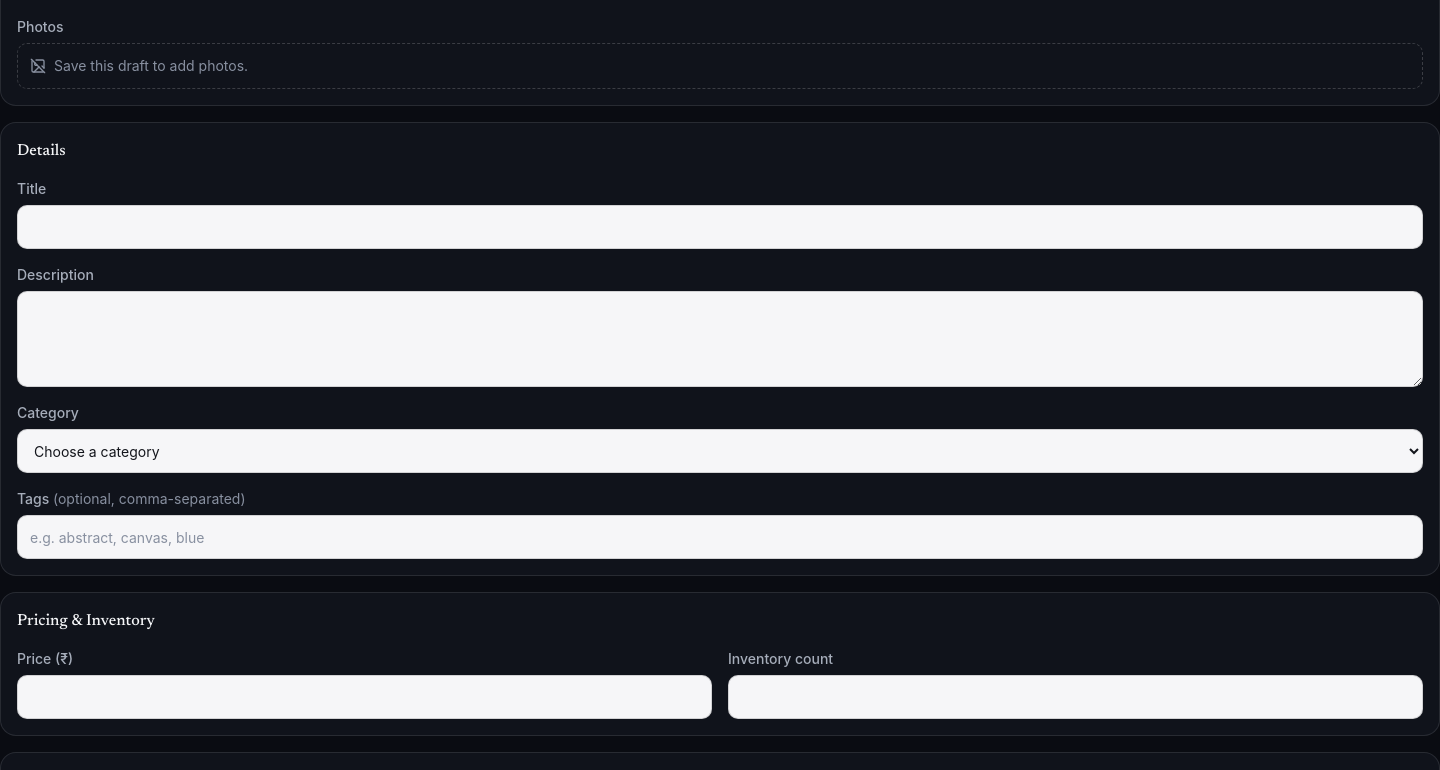
Test: ArtworkForm — create mode › rejects a non-numeric price with a specific message
This screenshot has width=1440, height=770.
In the field labelled "Title": (720, 227) x1=17 y1=205 x2=1423 y2=249, type "Sunset Over the Bay"
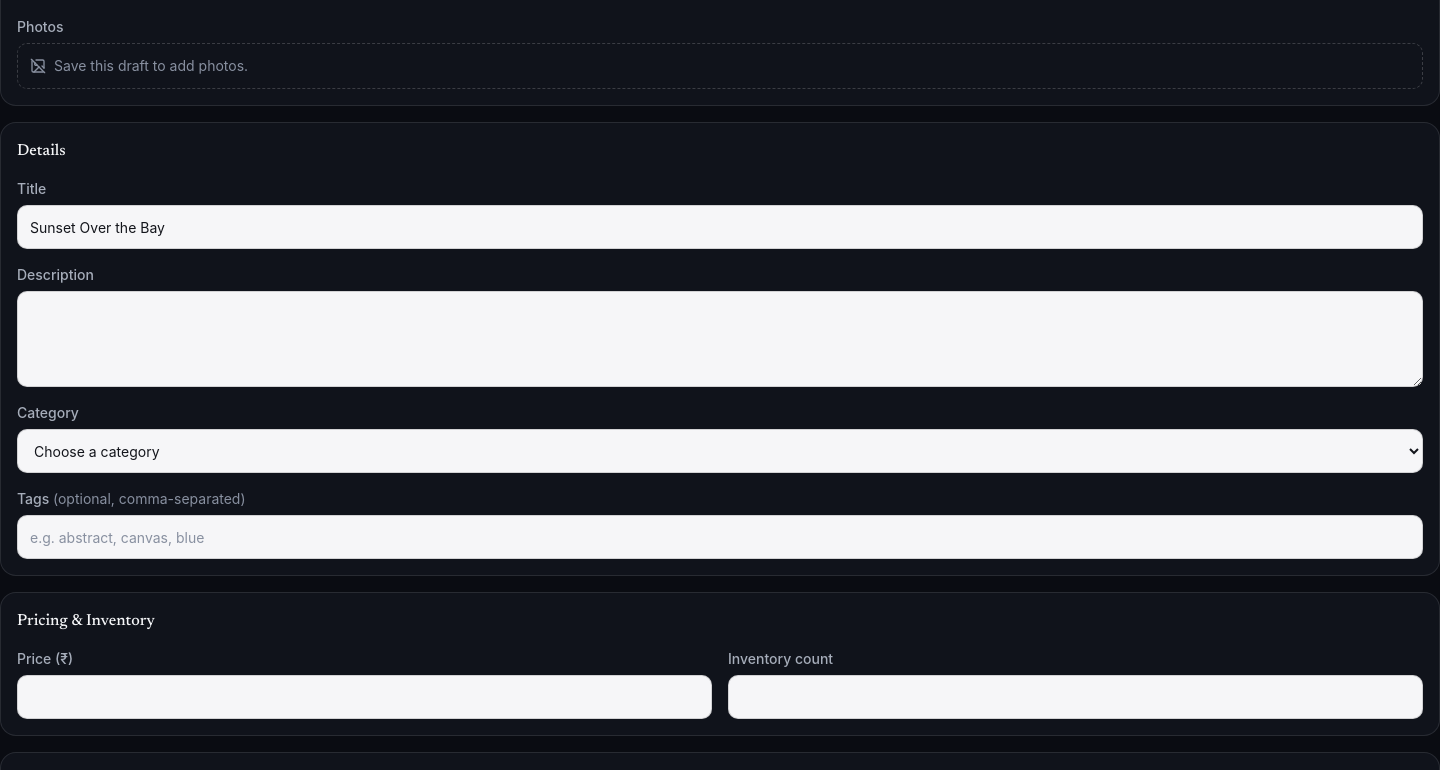
In the field labelled "Price (₹)": (364, 697) x1=17 y1=675 x2=712 y2=719, type "free"
(page scrolled)
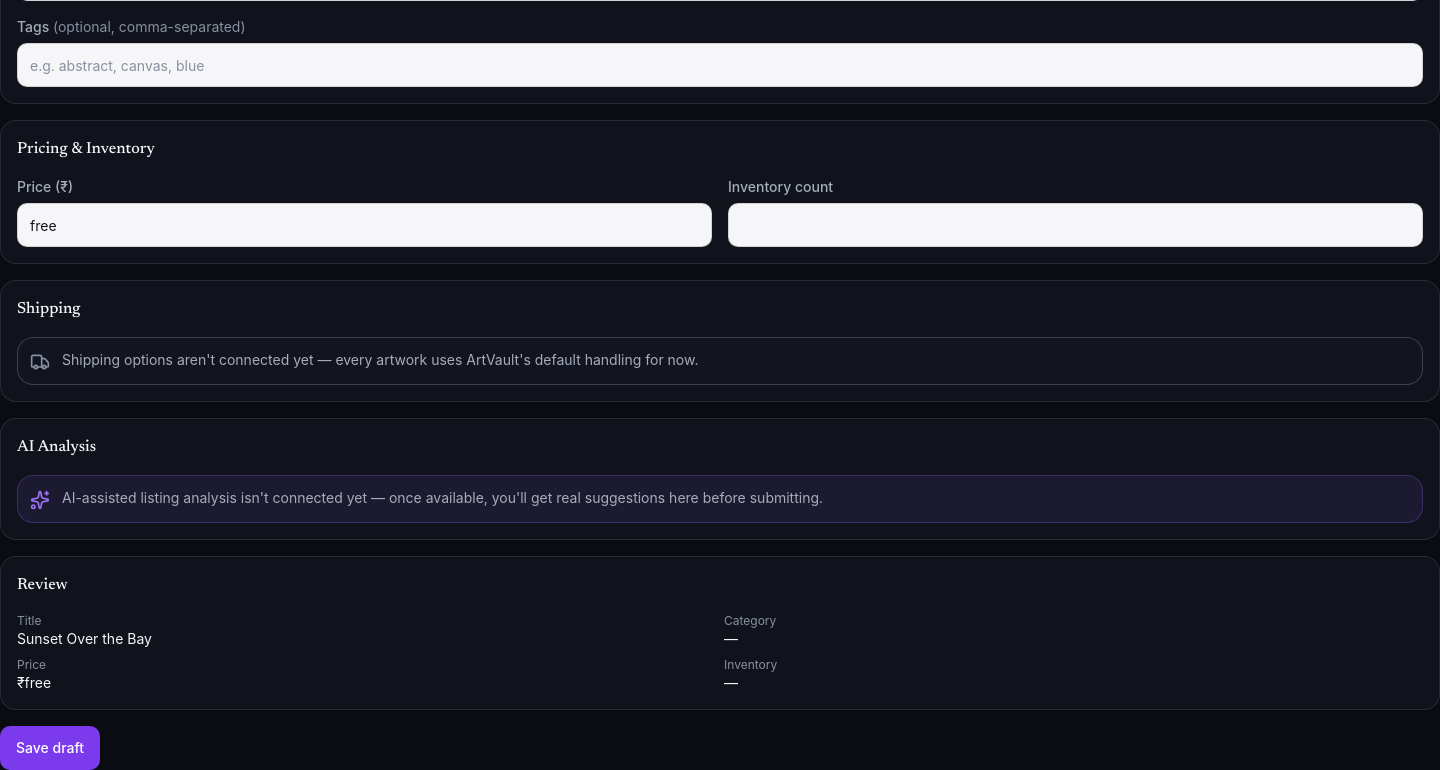
Click the button "Save draft": (50, 748) x1=0 y1=726 x2=100 y2=769
(page scrolled)
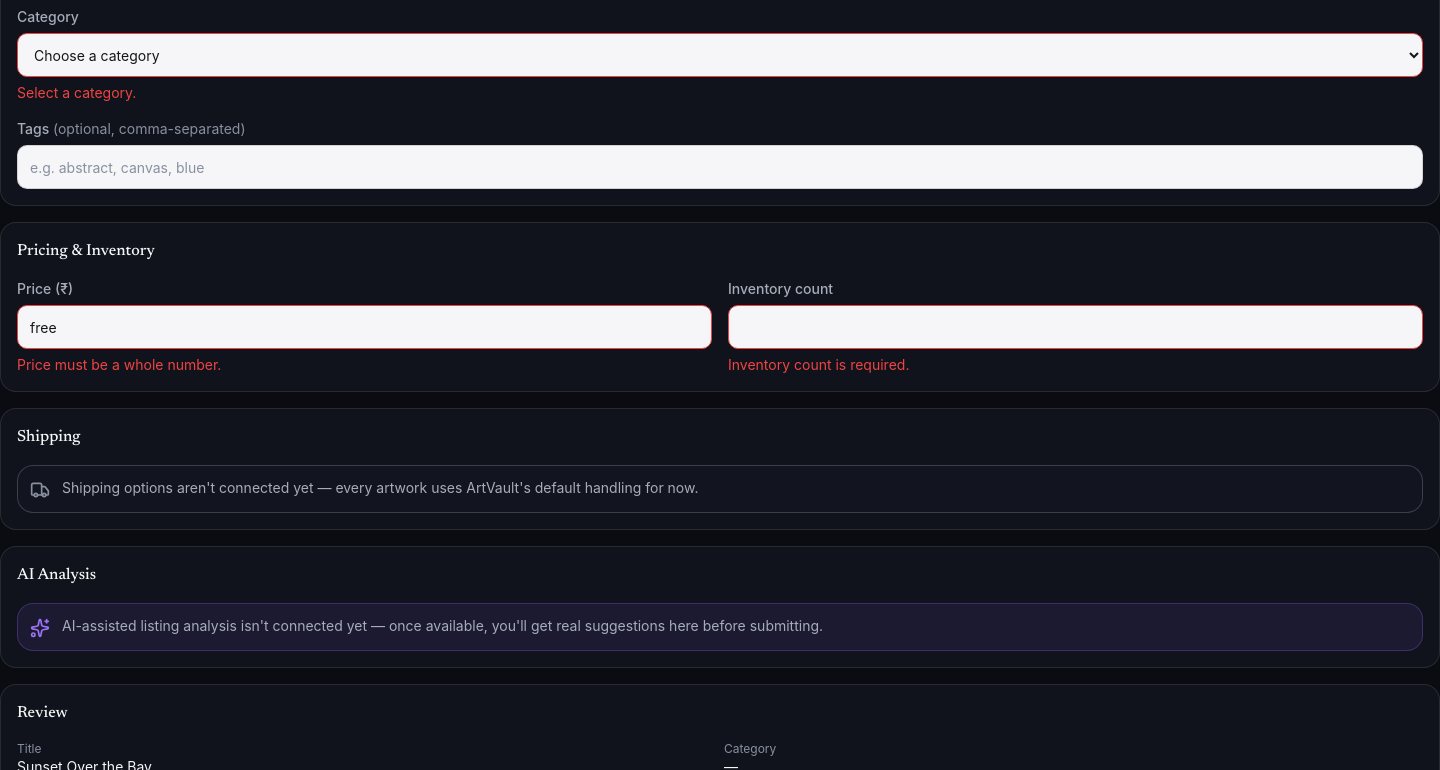
Result: the text "Price must be a whole number." is shown at x1=17 y1=356 x2=221 y2=373
